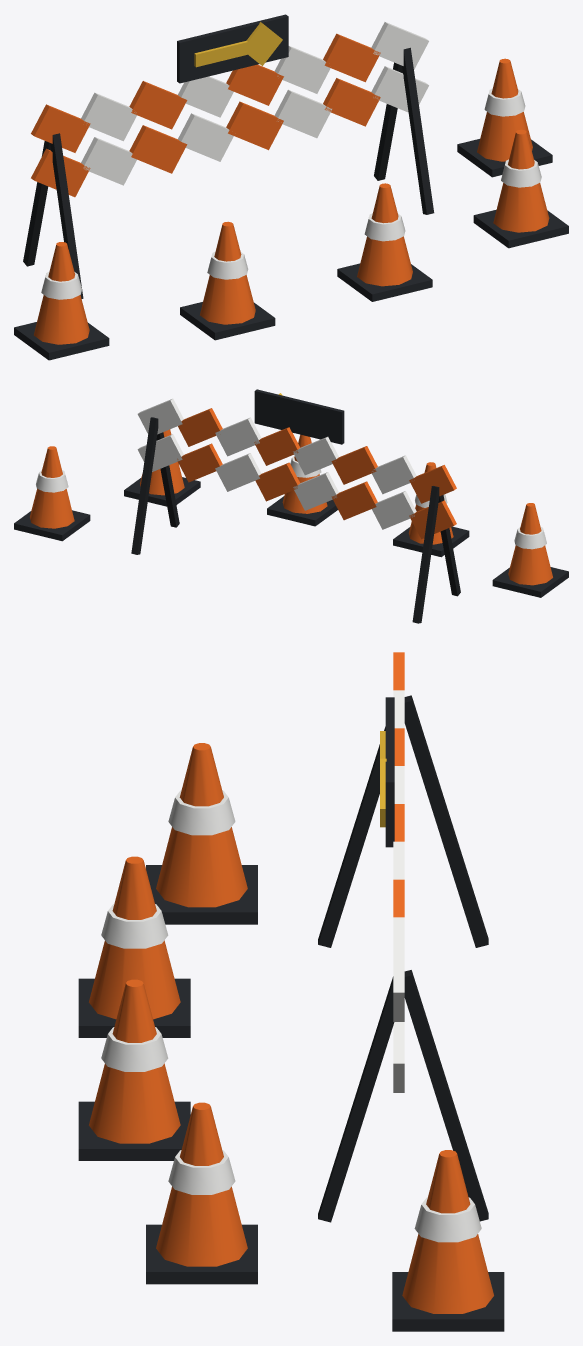
The model's file is desvio.fbx.
The picture shows the model from 3 angles, top to bottom: view 1: azimuth 30°, elevation 25°; view 2: azimuth 150°, elevation 25°; view 3: azimuth 270°, elevation 25°; orthographic projection. The views are drawn at different scales.
Visible parts, largest first — view 1: desvio; view 2: desvio; view 3: desvio.
Part boxes in pixels (x1,y1,x2,y2): desvio: (14, 14, 568, 360); desvio: (14, 389, 568, 623); desvio: (78, 652, 504, 1331).
Size of the model in its own units: 4.8 by 1.7 by 1.9.
